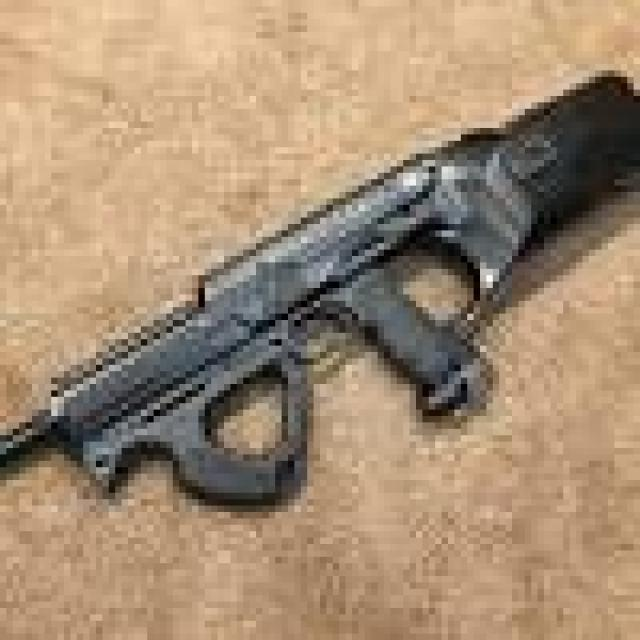weapon: (0, 66, 640, 520)
